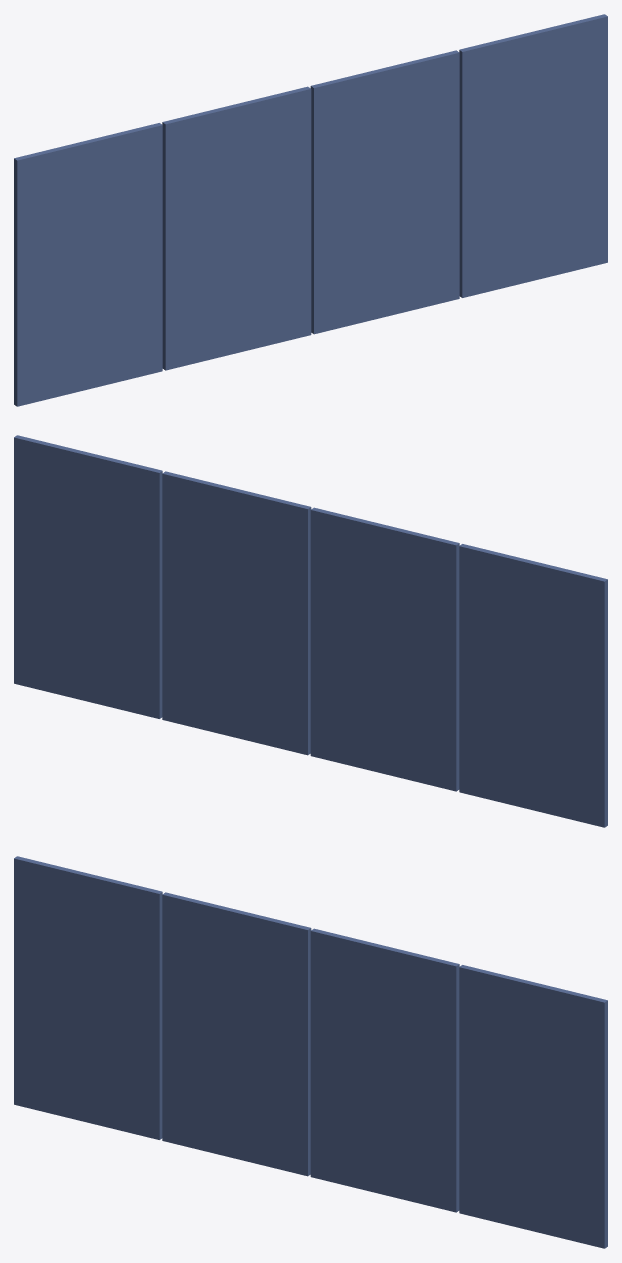
Rendered from alternativa1540_plana.glb.
3 views of the same model, one above another, from view 1: azimuth 30°, elevation 25°; view 2: azimuth 150°, elevation 25°; view 3: azimuth 330°, elevation 25° (orthographic).
Parts seen in each view (by area): view 1: FVfixo__1_modulo2_1, FVfixo__2_modulo3_0, FVfixo__0_modulo1_0, FVfixo__3_modulo4_1; view 2: FVfixo__1_modulo2_1, FVfixo__2_modulo3_0, FVfixo__0_modulo1_0, FVfixo__3_modulo4_1; view 3: FVfixo__2_modulo3_0, FVfixo__1_modulo2_1, FVfixo__0_modulo1_0, FVfixo__3_modulo4_1.
Part boxes in pixels (box(x1,y1,x2,y2)): FVfixo__1_modulo2_1: box(162, 86, 311, 370); FVfixo__2_modulo3_0: box(310, 50, 459, 334); FVfixo__0_modulo1_0: box(14, 123, 162, 406); FVfixo__3_modulo4_1: box(459, 14, 607, 297); FVfixo__1_modulo2_1: box(310, 507, 459, 791); FVfixo__2_modulo3_0: box(162, 471, 311, 755); FVfixo__0_modulo1_0: box(459, 544, 607, 827); FVfixo__3_modulo4_1: box(14, 435, 162, 718); FVfixo__2_modulo3_0: box(310, 928, 459, 1212); FVfixo__1_modulo2_1: box(162, 892, 311, 1176); FVfixo__0_modulo1_0: box(14, 856, 162, 1139); FVfixo__3_modulo4_1: box(459, 965, 607, 1248).
Bounding box in the file's own units: 4.24 × 1.69 × 0.04.
